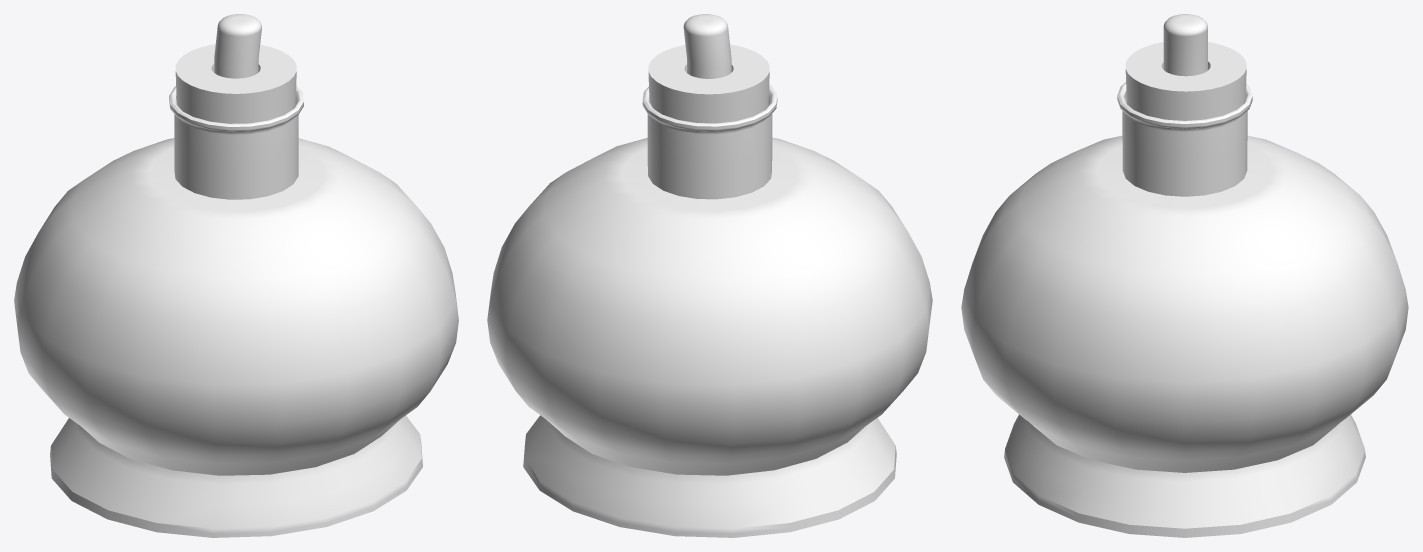
The model's file is Spirit_Lamp.glb.
3 renders of one model, left to right at view 1: azimuth 30°, elevation 25°; view 2: azimuth 150°, elevation 25°; view 3: azimuth 270°, elevation 25°, orthographic.
Parts seen in each view (by area): view 1: pSphere8, pCylinder15, pCylinder14; view 2: pSphere8, pCylinder15, pCylinder14; view 3: pSphere8, pCylinder15, pCylinder14.
Boxes of the visible parts, left/top/right/bottom form: pSphere8: left=14, top=86, right=458, bottom=537; pCylinder15: left=175, top=44, right=296, bottom=123; pCylinder14: left=214, top=14, right=261, bottom=78; pSphere8: left=487, top=85, right=932, bottom=537; pCylinder15: left=648, top=44, right=769, bottom=123; pCylinder14: left=683, top=14, right=731, bottom=78; pSphere8: left=961, top=82, right=1408, bottom=537; pCylinder15: left=1125, top=42, right=1246, bottom=120; pCylinder14: left=1163, top=14, right=1207, bottom=76.
Bounding box in the file's own units: 0.0989 × 0.1073 × 0.0989.
3 materials, 1 textured.
